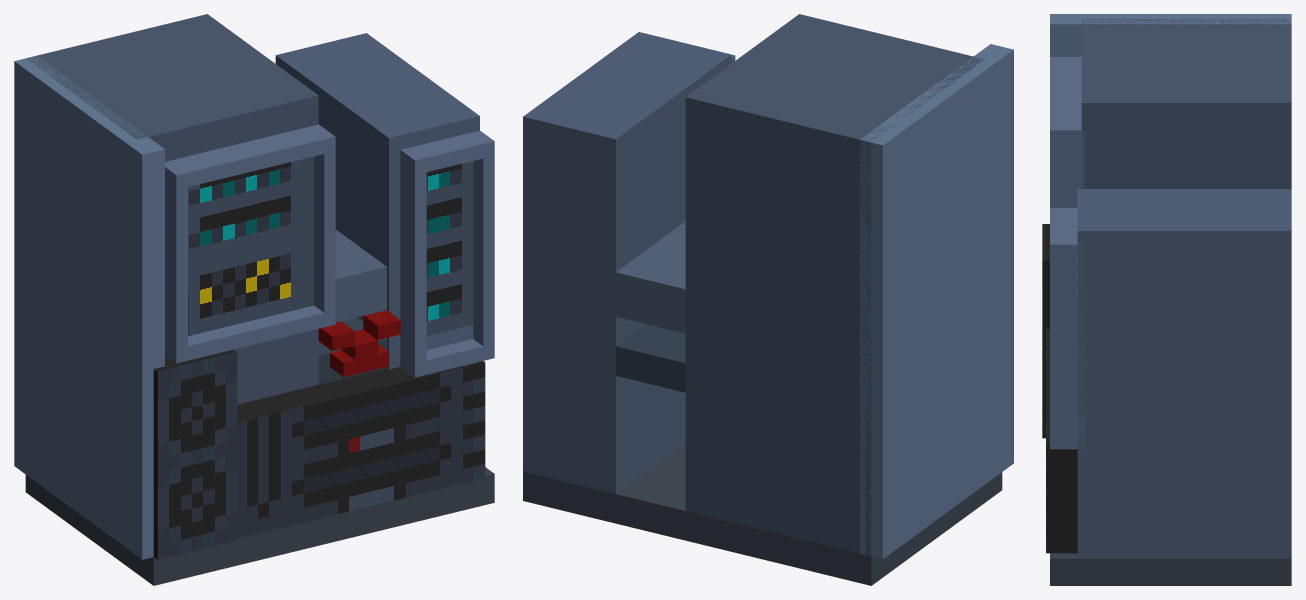
The model's file is CMU3DTelecomProcessorCloud.glb.
3 renders of one model, left to right at view 1: azimuth 30°, elevation 25°; view 2: azimuth 150°, elevation 25°; view 3: azimuth 270°, elevation 25°, orthographic. The views are drawn at different scales.
Parts seen in each view (by area): view 1: left solid flank, left tall processing chassis, lower horizontal output rack original face, right shorter processing chassis, left status panel recessed inset original face, left fan module original face, full width lower plinth, right status panel recessed inset original face, left status panel upper frame, right status panel left frame, right status panel right frame, left status panel lower frame (+12 smaller); view 2: left tall processing chassis, left solid flank, right shorter processing chassis, full width lower plinth, upper cross connect link, lower cross connect link; view 3: right shorter processing chassis, left tall processing chassis, full width lower plinth, right status panel right frame, lower horizontal output rack, left solid flank, left status panel upper frame, left status panel right frame, right status panel upper frame, left fan module, right status panel lower frame.
Part boxes in pixels (left/top/right/bottom): left solid flank: left=14, top=56, right=164, bottom=559; left tall processing chassis: left=26, top=14, right=318, bottom=404; lower horizontal output rack original face: left=237, top=362, right=485, bottom=538; right shorter processing chassis: left=275, top=33, right=479, bottom=369; left status panel recessed inset original face: left=188, top=156, right=313, bottom=336; left fan module original face: left=157, top=352, right=237, bottom=559; full width lower plinth: left=25, top=467, right=494, bottom=585; right status panel recessed inset original face: left=426, top=161, right=473, bottom=350; left status panel upper frame: left=165, top=124, right=335, bottom=189; right status panel left frame: left=400, top=164, right=426, bottom=362; right status panel right frame: left=473, top=156, right=494, bottom=346; left status panel lower frame: left=165, top=305, right=335, bottom=363; left tall processing chassis: left=685, top=14, right=984, bottom=555; left solid flank: left=860, top=44, right=1013, bottom=558; right shorter processing chassis: left=523, top=32, right=731, bottom=493; full width lower plinth: left=523, top=443, right=1002, bottom=585; upper cross connect link: left=616, top=221, right=685, bottom=333; lower cross connect link: left=616, top=324, right=685, bottom=392; right shorter processing chassis: left=1077, top=189, right=1291, bottom=558; left tall processing chassis: left=1081, top=19, right=1291, bottom=188; full width lower plinth: left=1050, top=553, right=1291, bottom=585; right status panel right frame: left=1050, top=258, right=1085, bottom=435; lower horizontal output rack: left=1046, top=329, right=1077, bottom=553; left solid flank: left=1050, top=14, right=1291, bottom=56; left status panel upper frame: left=1050, top=57, right=1085, bottom=143; left status panel right frame: left=1050, top=144, right=1085, bottom=207; right status panel upper frame: left=1050, top=208, right=1085, bottom=258; left fan module: left=1042, top=224, right=1049, bottom=438; right status panel lower frame: left=1050, top=435, right=1085, bottom=449.
Bounding box in the file's own units: 0.9688 × 1.14 × 0.6296.
14 materials, 4 textured.
